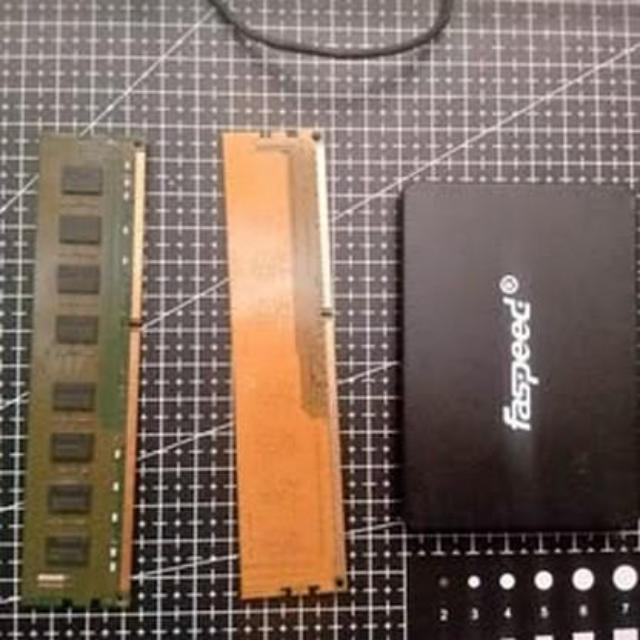DISK: (394, 146, 640, 536)
RAM: (216, 103, 364, 626), (14, 110, 157, 628)
